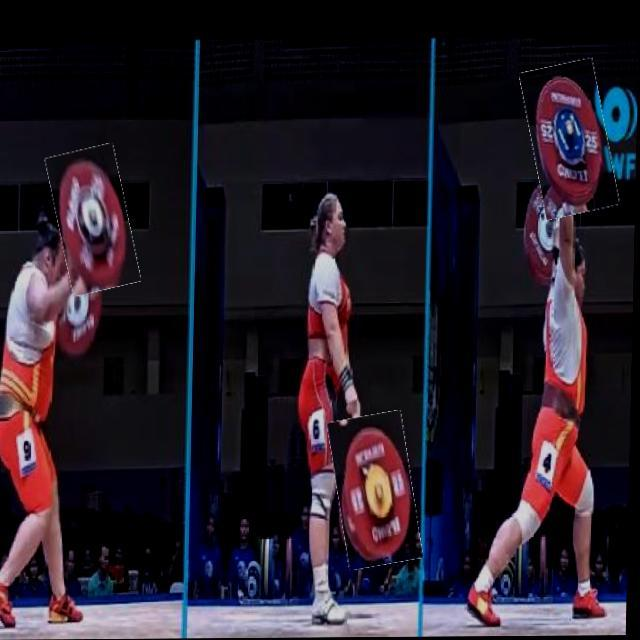barbell: (525, 62, 617, 219), (334, 414, 423, 569), (51, 147, 138, 296)
